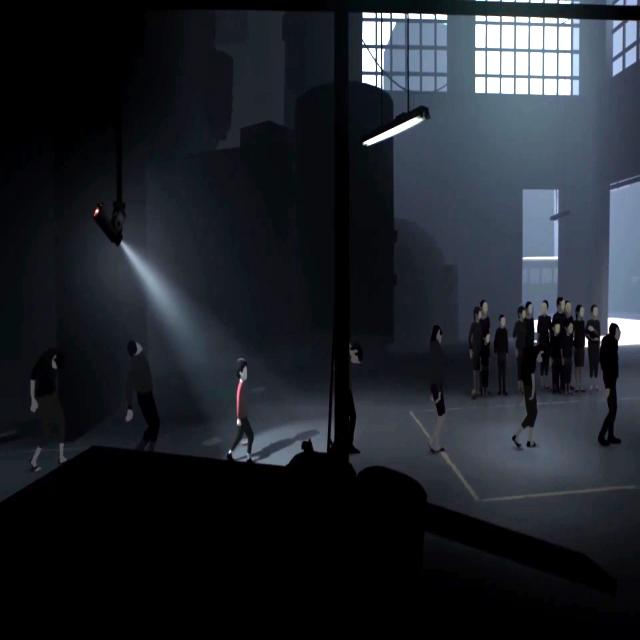boy: (226, 357, 255, 467)
human: (586, 303, 600, 392), (512, 306, 526, 392), (468, 308, 481, 398), (494, 314, 508, 396), (574, 304, 586, 393), (549, 322, 560, 393), (536, 300, 550, 348), (481, 332, 490, 397), (481, 298, 490, 332), (554, 296, 565, 317)
zombie: (29, 346, 64, 474), (126, 338, 163, 454), (514, 346, 542, 450), (598, 323, 620, 448), (427, 327, 448, 454), (348, 342, 363, 456)
